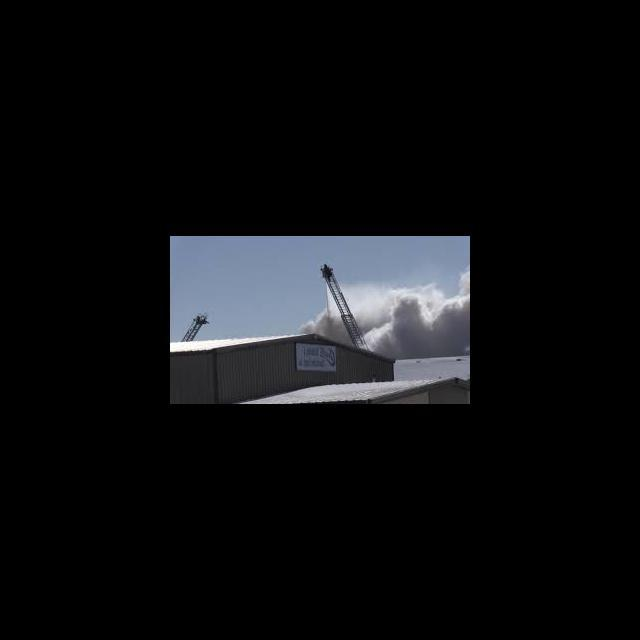Smoke: (371, 270, 469, 352)
